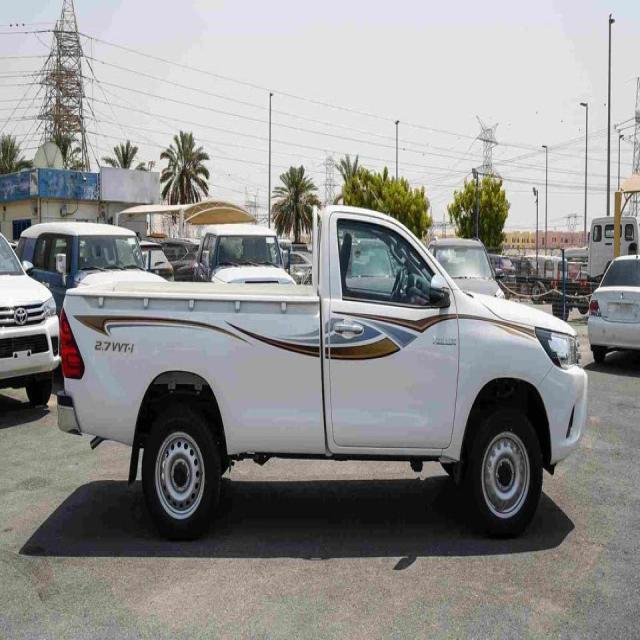light_vehicle: (51, 179, 594, 543)
